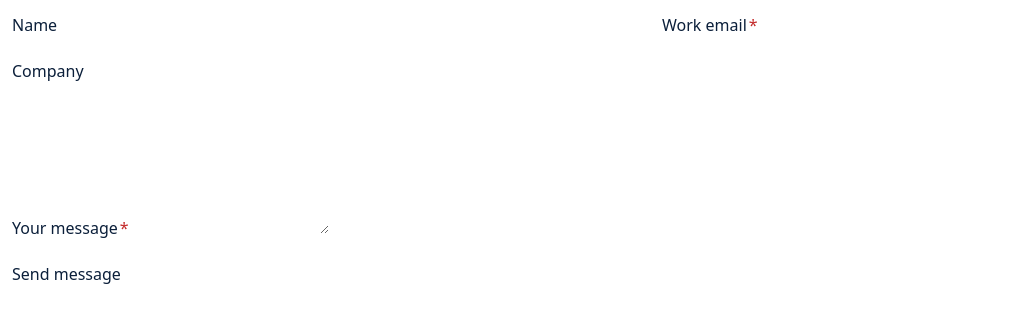
it: LeadForm › requires a message where the page says so
Type "grace@example.com" into the field labelled "Work email*" at [873, 25], box left=758, top=12, right=989, bottom=38
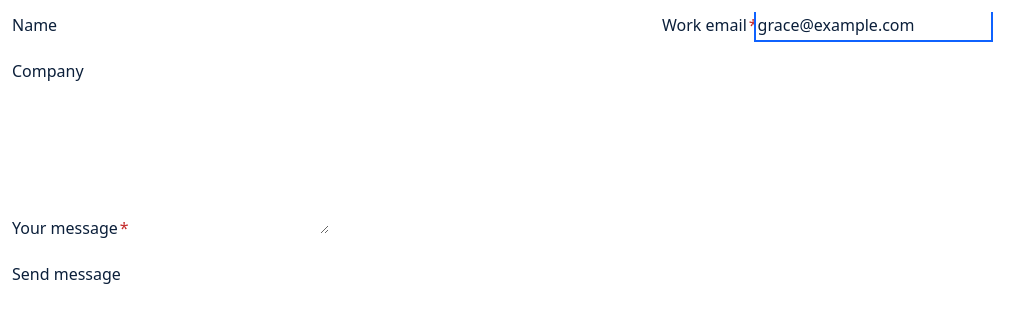
Type "short" into the text box labelled "Your message*" at [229, 169], box left=129, top=104, right=329, bottom=234
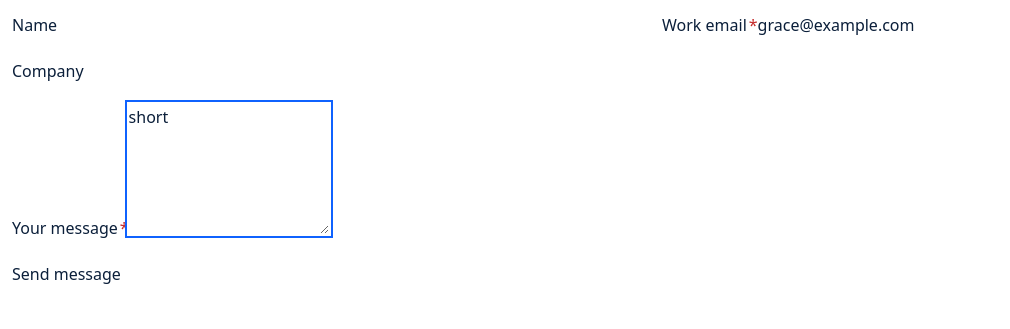
Click the button "Send message" at [66, 274], box left=12, top=261, right=121, bottom=287
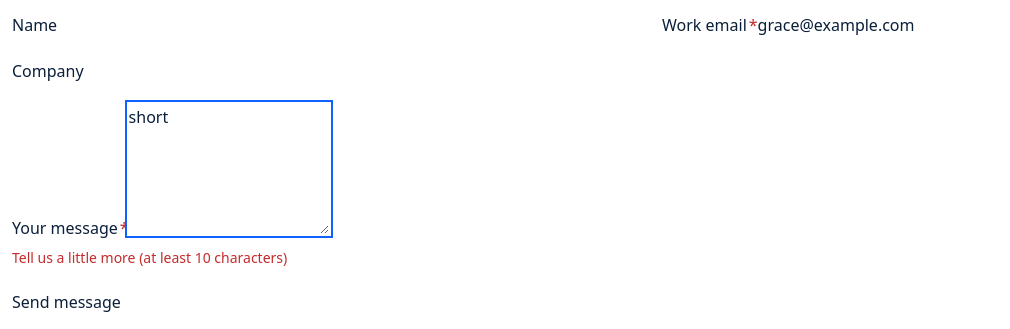
Result: the text "Tell us a little more (at least 10 characters)" is shown at left=12, top=248, right=287, bottom=267
